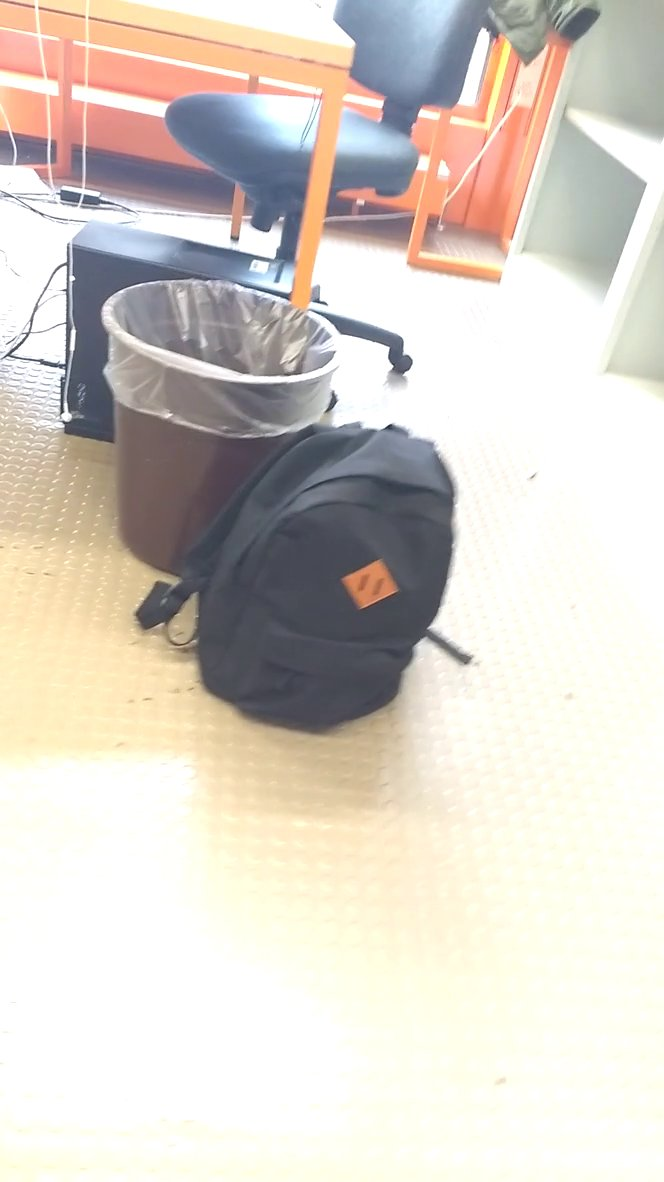bag: (134, 409, 462, 740)
bin: (99, 269, 347, 501)
chair: (163, 1, 491, 375)
